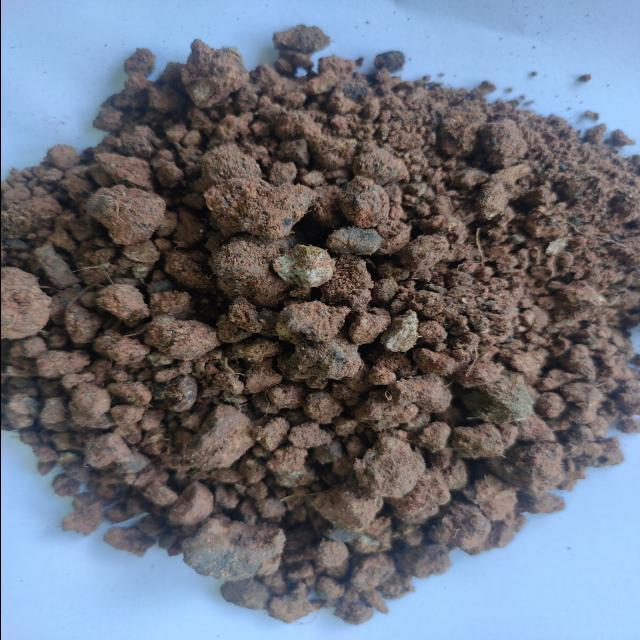soil: (101, 91, 545, 544)
